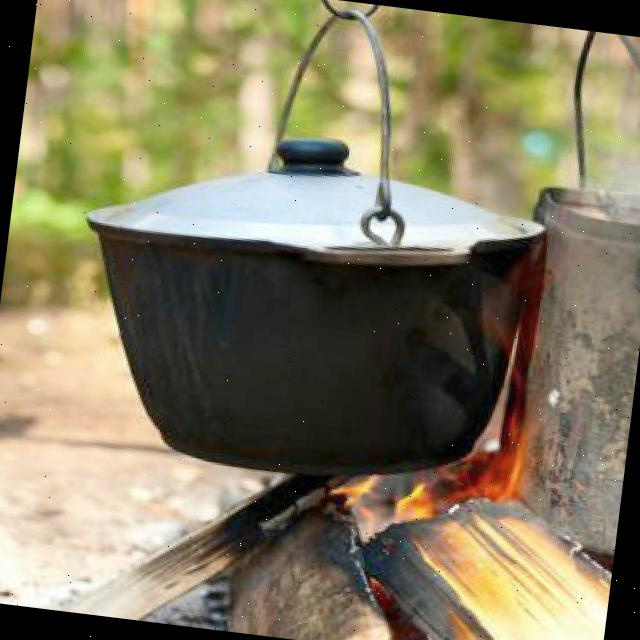fire: (333, 398, 560, 547)
